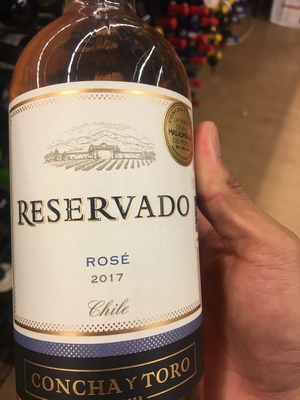reservado rose: (10, 26, 197, 385)
